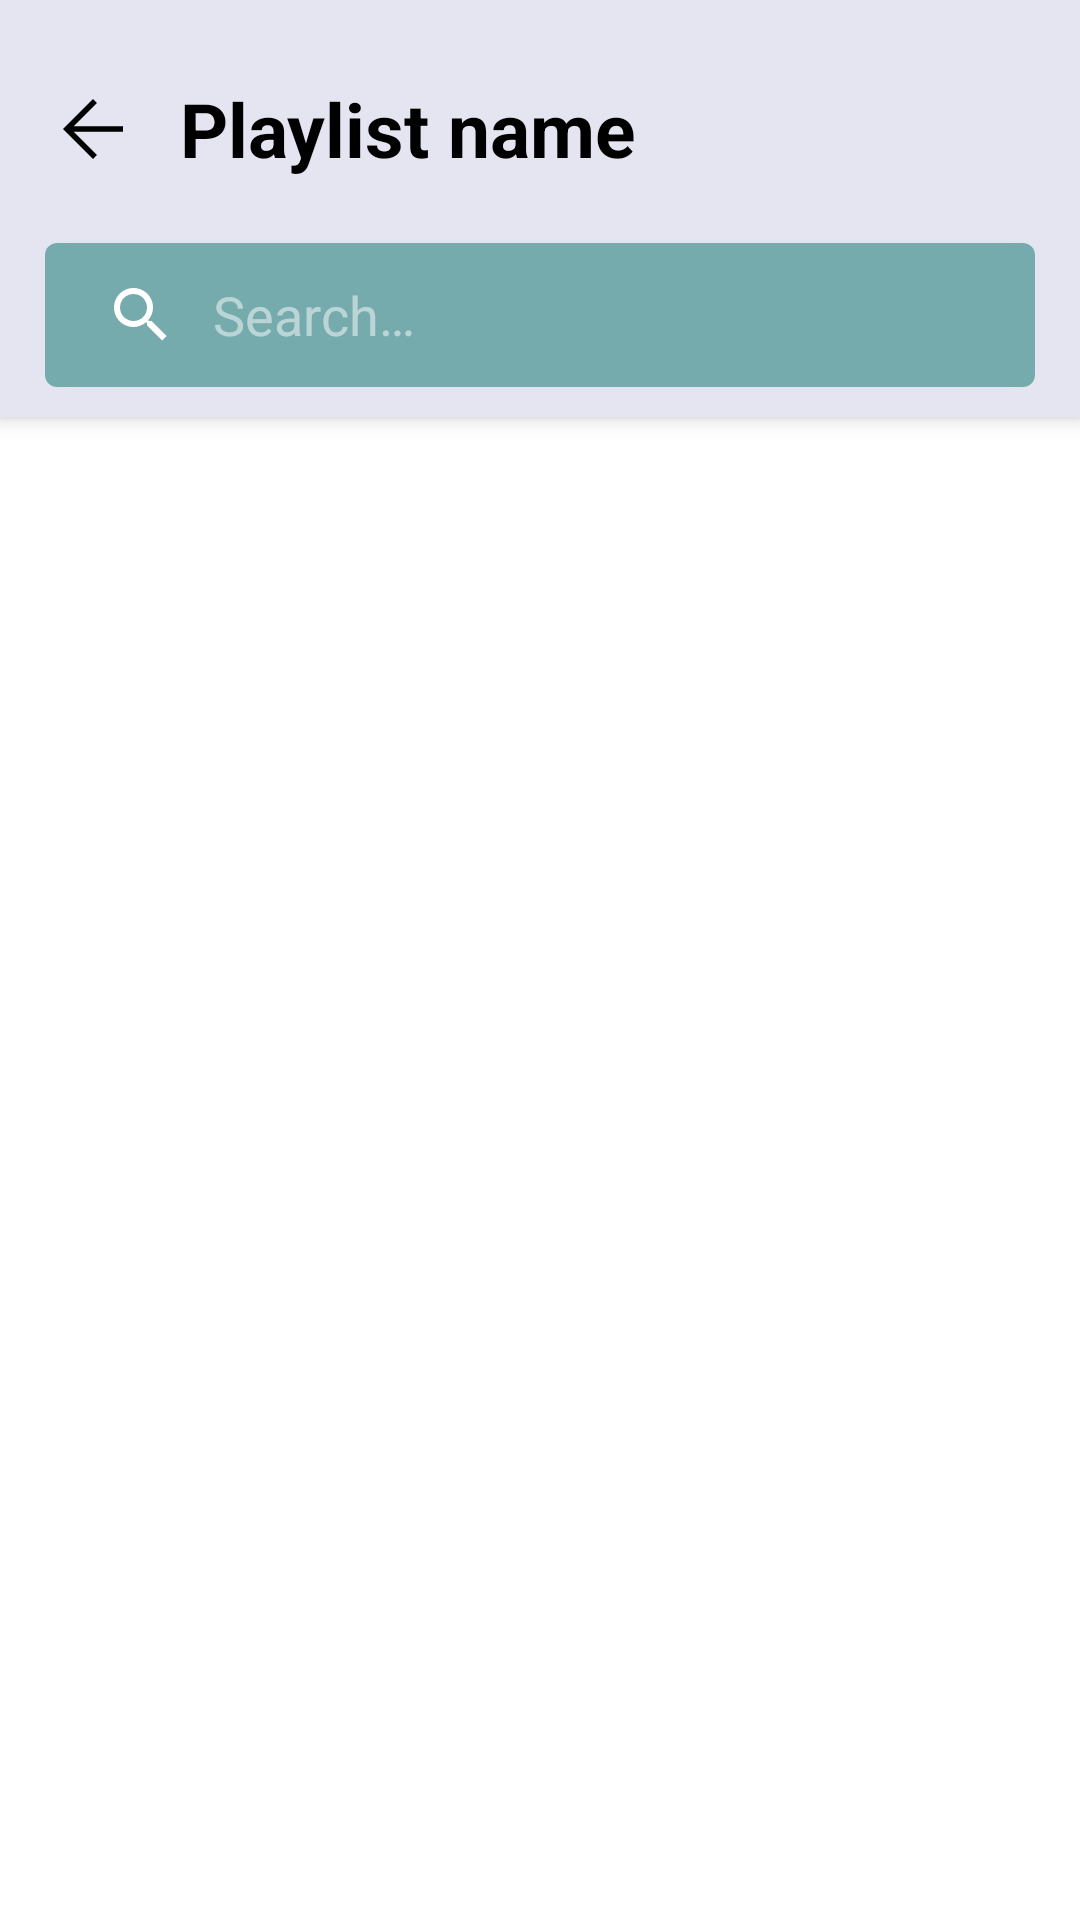

Locate icon controls on the screen. Image size 1080 x 1920, boxes as (x1=x1, y1=y1, x2=x2, y2=y2).
arrow back: (x1=63, y1=99, x2=123, y2=159)
